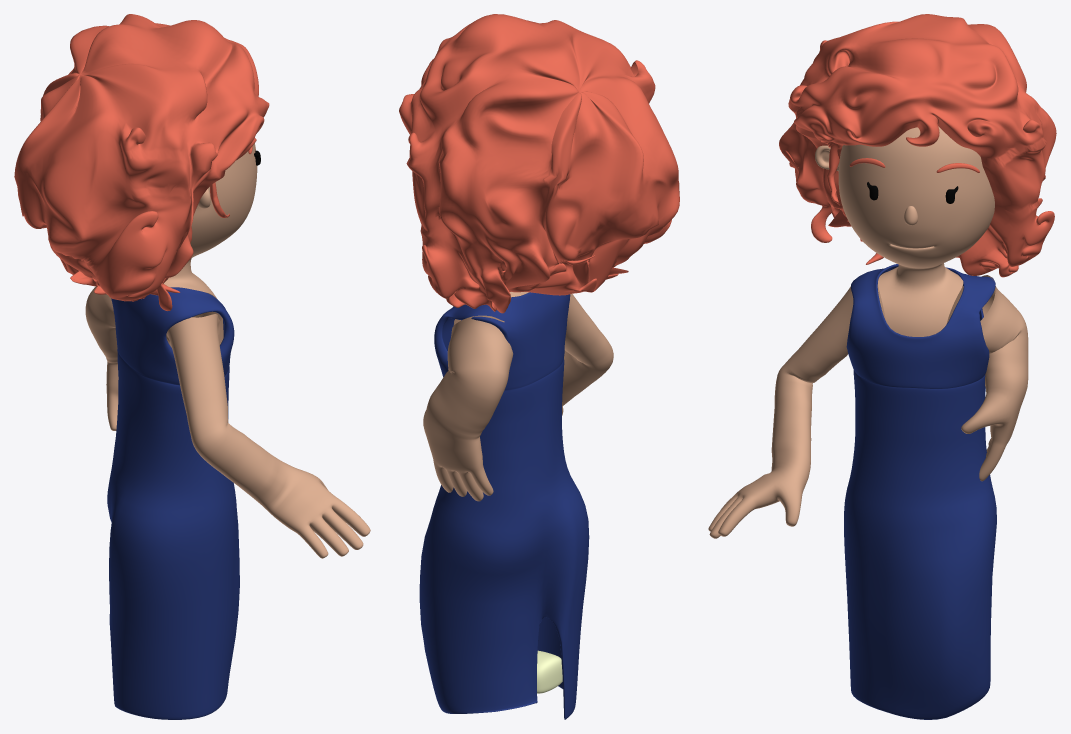
File: mannequin.gltf
3 renders of one model, left to right at view 1: azimuth 30°, elevation 25°; view 2: azimuth 150°, elevation 25°; view 3: azimuth 270°, elevation 25°, orthographic. The views are drawn at different scales.
Visible parts, largest first — view 1: Hair17, Dress, body.001, head.001; view 2: Hair17, Dress, body.001, Cube.036; view 3: Dress, Hair17, head.001, body.001.
Part boxes in pixels (left/top/right/bottom): Hair17: left=14, top=14, right=269, bottom=310; Dress: left=107, top=287, right=239, bottom=719; body.001: left=85, top=286, right=370, bottom=558; head.001: left=163, top=143, right=257, bottom=298; Hair17: left=399, top=14, right=679, bottom=313; Dress: left=419, top=292, right=589, bottom=719; body.001: left=423, top=294, right=613, bottom=501; Cube.036: left=537, top=650, right=562, bottom=693; Dress: left=844, top=264, right=996, bottom=719; Hair17: left=779, top=14, right=1056, bottom=277; head.001: left=815, top=126, right=994, bottom=336; body.001: left=708, top=275, right=1028, bottom=538.
Bounding box in the file's own units: 3.63 × 9.45 × 4.48.
